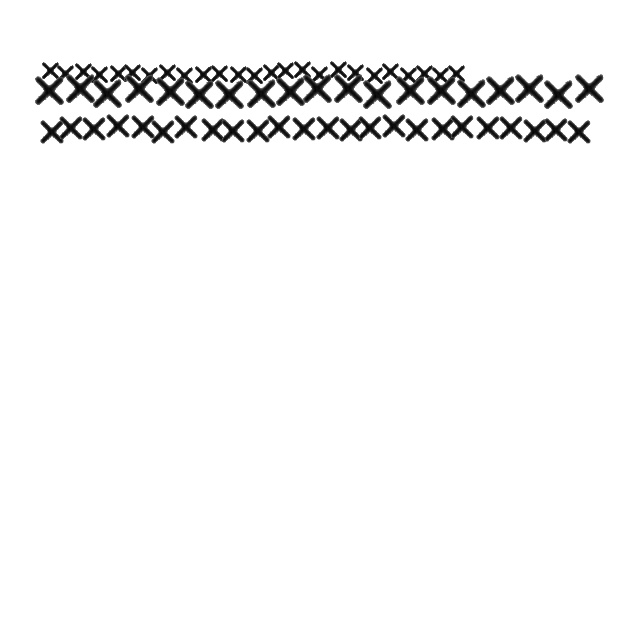double: (90, 74, 126, 112), (244, 74, 280, 112), (454, 74, 490, 112), (32, 72, 68, 108), (122, 70, 158, 106), (182, 76, 218, 112), (212, 76, 248, 112), (300, 70, 336, 106), (360, 76, 396, 112), (424, 72, 460, 108), (512, 70, 548, 106), (572, 70, 608, 106), (154, 72, 188, 110), (274, 72, 308, 110), (64, 70, 98, 106), (332, 70, 366, 106), (394, 72, 428, 108), (484, 72, 518, 108), (542, 76, 576, 112), (38, 116, 66, 146), (57, 112, 85, 142), (80, 113, 108, 143), (104, 110, 132, 140), (129, 111, 157, 141), (149, 116, 177, 146), (172, 111, 200, 141), (199, 114, 227, 144), (219, 115, 247, 145), (244, 115, 272, 145), (265, 111, 293, 141), (290, 113, 318, 143), (314, 112, 342, 142), (337, 114, 365, 144), (356, 112, 384, 142), (380, 110, 408, 140), (403, 114, 431, 144), (429, 113, 457, 143), (448, 111, 476, 141), (474, 112, 502, 142), (497, 112, 525, 142), (521, 115, 549, 145), (542, 114, 570, 144), (565, 116, 593, 146), (40, 59, 62, 81), (108, 62, 130, 84), (122, 61, 144, 83), (174, 64, 196, 86), (228, 63, 250, 85), (244, 64, 266, 86), (292, 58, 314, 80), (328, 58, 350, 80), (364, 64, 386, 86), (380, 60, 402, 82), (398, 64, 420, 86), (414, 62, 436, 84), (430, 64, 452, 86), (446, 62, 468, 84), (56, 62, 76, 84), (74, 60, 94, 82), (90, 63, 110, 85), (140, 64, 160, 86), (158, 61, 178, 83), (194, 63, 214, 85), (210, 62, 230, 84), (262, 61, 282, 83), (276, 59, 296, 81), (310, 63, 330, 85), (346, 61, 366, 83)
